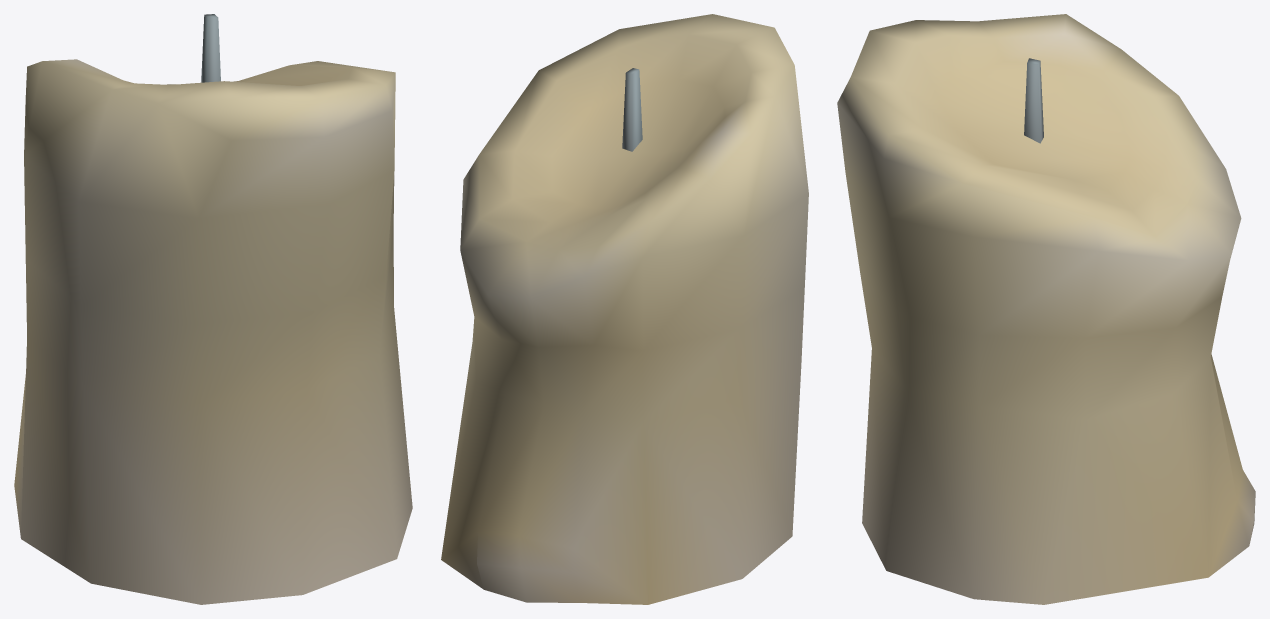
File: Candle_1.glb
The picture shows the model from 3 angles, left to right: view 1: azimuth 30°, elevation 25°; view 2: azimuth 150°, elevation 25°; view 3: azimuth 270°, elevation 25°; orthographic projection. The views are drawn at different scales.
Parts seen in each view (by area): view 1: Candle_1; view 2: Candle_1; view 3: Candle_1.
Boxes of the visible parts, x1,y1,x2,y2 form: Candle_1: (14,14,412,604); Candle_1: (441,14,808,604); Candle_1: (837,14,1255,604).
Bounding box in the file's own units: 0.0939 × 0.132 × 0.1079.
